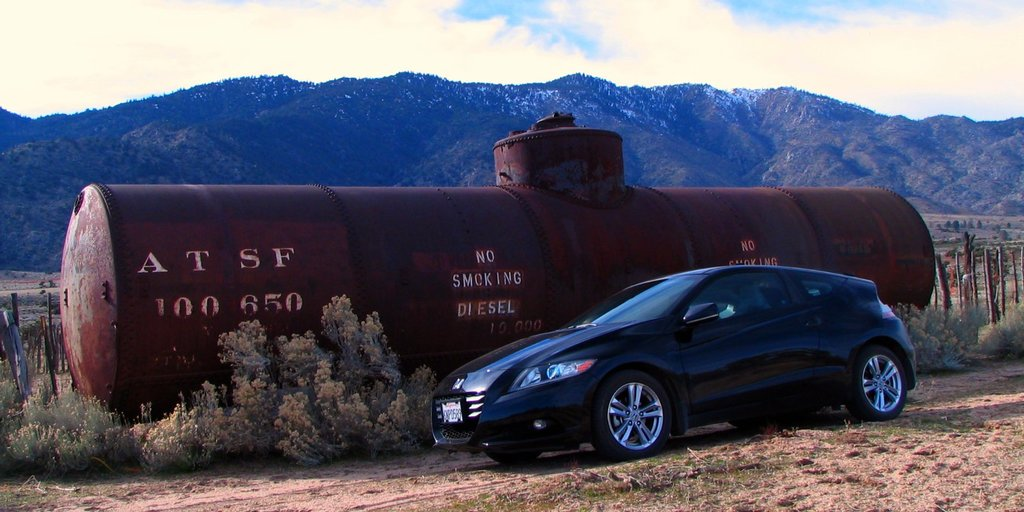mobil: (420, 255, 939, 472)
